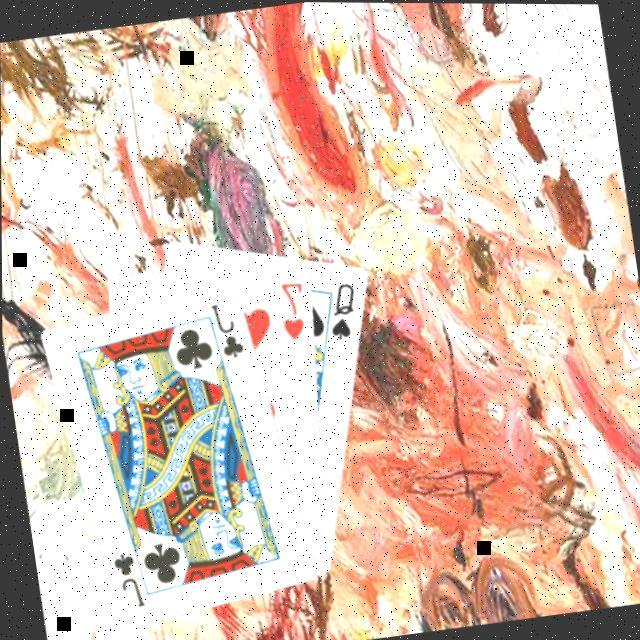7H: (272, 277, 312, 345)
JC: (206, 297, 247, 363), (106, 548, 146, 612)
QS: (320, 279, 362, 345)
